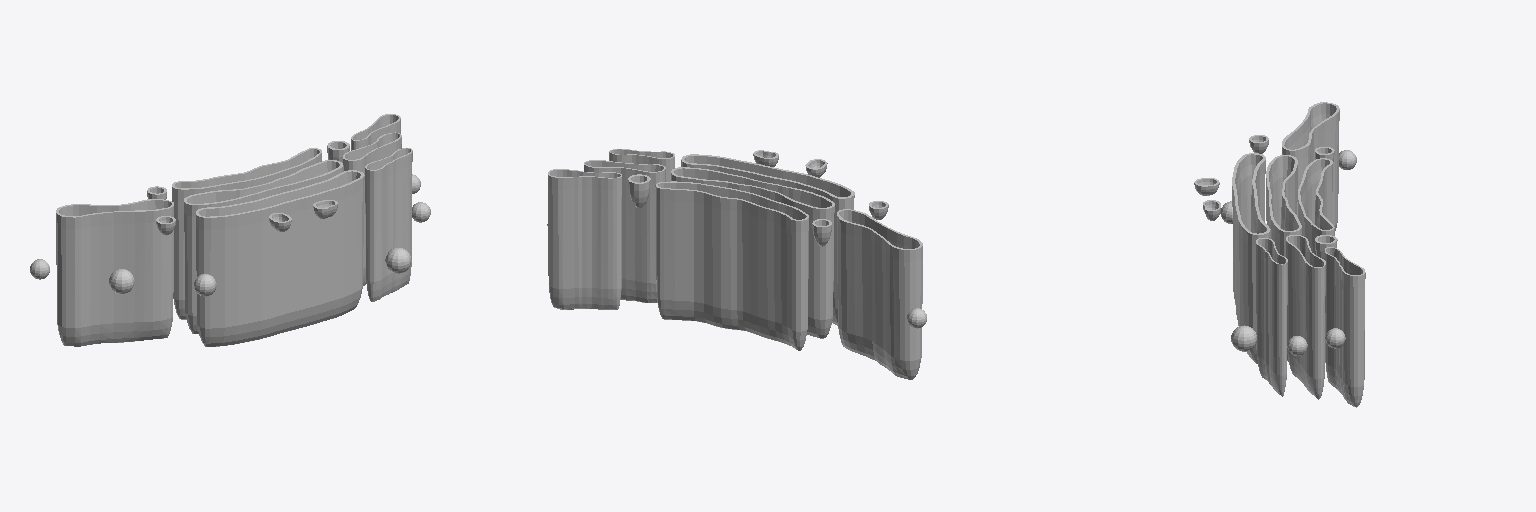
Rendered from Golgi_Apparatus.obj.
The picture shows the model from 3 angles: view 1: azimuth 30°, elevation 25°; view 2: azimuth 150°, elevation 25°; view 3: azimuth 270°, elevation 25°; orthographic projection.
Visible parts, largest first — view 1: Golgi_Apparatus Cell Golgi_Piece, Golgi_Apparatus Cell Golgi_Piece6, Golgi_Apparatus Cell Golgi_Piece8, Golgi_Piece4 Golgi_Apparatus Cell, Golgi_Apparatus Cell Golgi_Piece5, Golgi_Apparatus Cell Golgi_Piece7, Golgi_Apparatus Cell Golgi_Piece9, Golgi_Apparatus Cell Golgi_Sphere; view 2: Golgi_Apparatus Cell Golgi_Piece5, Golgi_Apparatus Cell Golgi_Piece6, Golgi_Apparatus Cell Golgi_Piece9, Golgi_Piece4 Golgi_Apparatus Cell, Golgi_Apparatus Cell Golgi_Piece7, Golgi_Apparatus Cell Golgi_Piece, Golgi_Apparatus Cell Golgi_Piece8, Golgi_Apparatus Cell Golgi_Piece1; view 3: Golgi_Apparatus Cell Golgi_Piece9, Golgi_Apparatus Cell Golgi_Piece7, Golgi_Apparatus Cell Golgi_Piece, Golgi_Apparatus Cell Golgi_Piece8, Golgi_Apparatus Cell Golgi_Piece6, Golgi_Piece4 Golgi_Apparatus Cell, Golgi_Apparatus Cell Golgi_Piece5, Golgi_Apparatus Cell Golgi_Sphere.
Boxes of the visible parts, box(x1,y1,x2,y2) form: Golgi_Apparatus Cell Golgi_Piece: box(196, 170, 364, 346); Golgi_Apparatus Cell Golgi_Piece6: box(56, 199, 173, 346); Golgi_Apparatus Cell Golgi_Piece8: box(365, 148, 412, 301); Golgi_Piece4 Golgi_Apparatus Cell: box(184, 160, 343, 333); Golgi_Apparatus Cell Golgi_Piece5: box(172, 148, 321, 319); Golgi_Apparatus Cell Golgi_Piece7: box(343, 132, 401, 285); Golgi_Apparatus Cell Golgi_Piece9: box(351, 114, 400, 150); Golgi_Apparatus Cell Golgi_Sphere: box(385, 247, 411, 273); Golgi_Apparatus Cell Golgi_Piece5: box(655, 181, 808, 350); Golgi_Apparatus Cell Golgi_Piece6: box(837, 209, 922, 379); Golgi_Apparatus Cell Golgi_Piece9: box(548, 169, 621, 309); Golgi_Piece4 Golgi_Apparatus Cell: box(671, 167, 834, 338); Golgi_Apparatus Cell Golgi_Piece7: box(584, 160, 665, 302); Golgi_Apparatus Cell Golgi_Piece: box(681, 154, 854, 325); Golgi_Apparatus Cell Golgi_Piece8: box(609, 149, 674, 181); Golgi_Apparatus Cell Golgi_Piece1: box(628, 174, 650, 207); Golgi_Apparatus Cell Golgi_Piece9: box(1325, 247, 1365, 407); Golgi_Apparatus Cell Golgi_Piece7: box(1286, 235, 1325, 399); Golgi_Apparatus Cell Golgi_Piece: box(1232, 153, 1270, 363); Golgi_Apparatus Cell Golgi_Piece8: box(1256, 238, 1287, 396); Golgi_Apparatus Cell Golgi_Piece6: box(1282, 102, 1339, 230); Golgi_Piece4 Golgi_Apparatus Cell: box(1266, 155, 1301, 361); Golgi_Apparatus Cell Golgi_Piece5: box(1298, 158, 1334, 254); Golgi_Apparatus Cell Golgi_Sphere: box(1231, 325, 1256, 351).
Size of the model in its own units: 68.85 by 23.42 by 26.67.